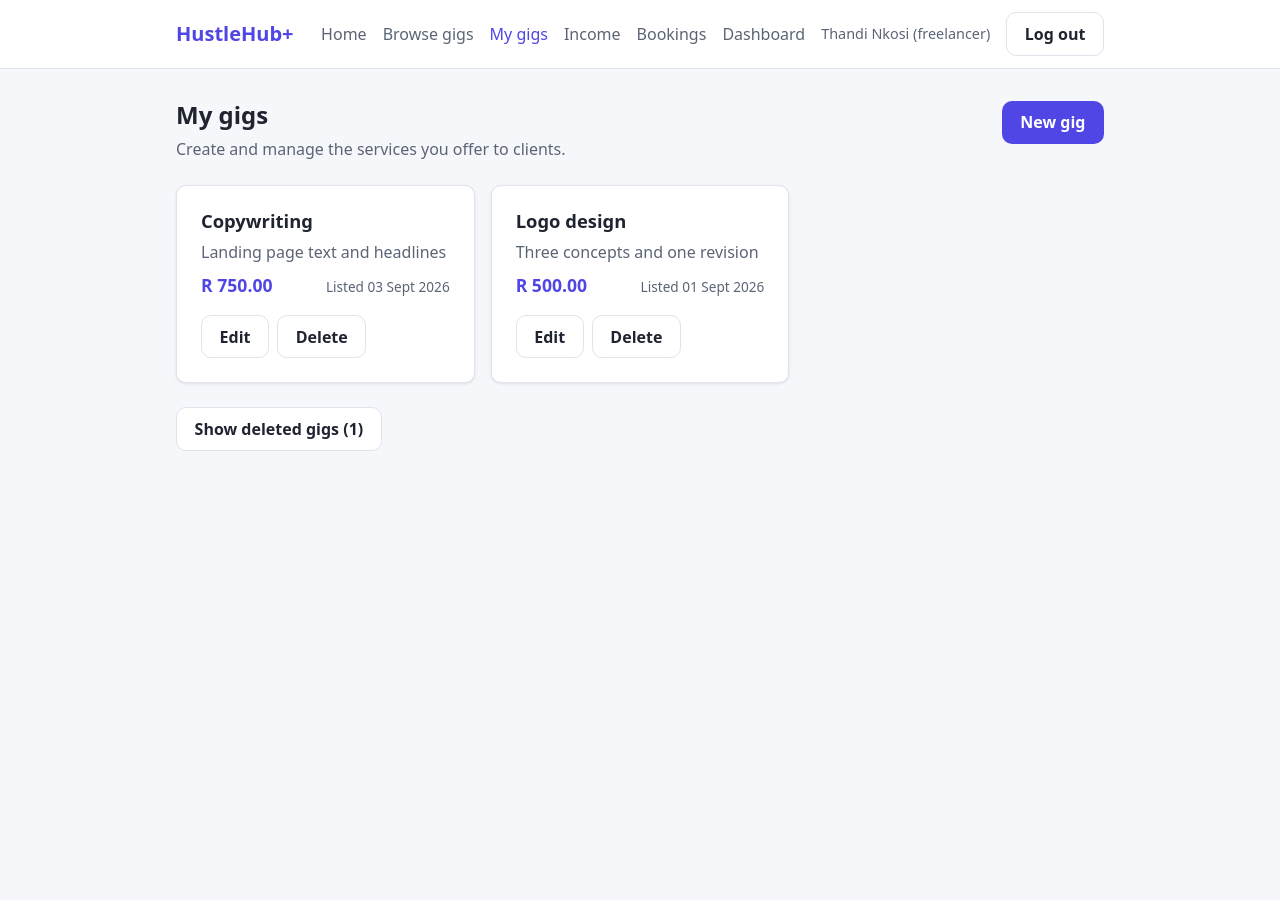
MyGigsPage › listing › offers to show deleted gigs, marked as removed with nothing to edit
Click the button "Show deleted gigs (1)". click: (279, 429)
box: [176,408,382,451]
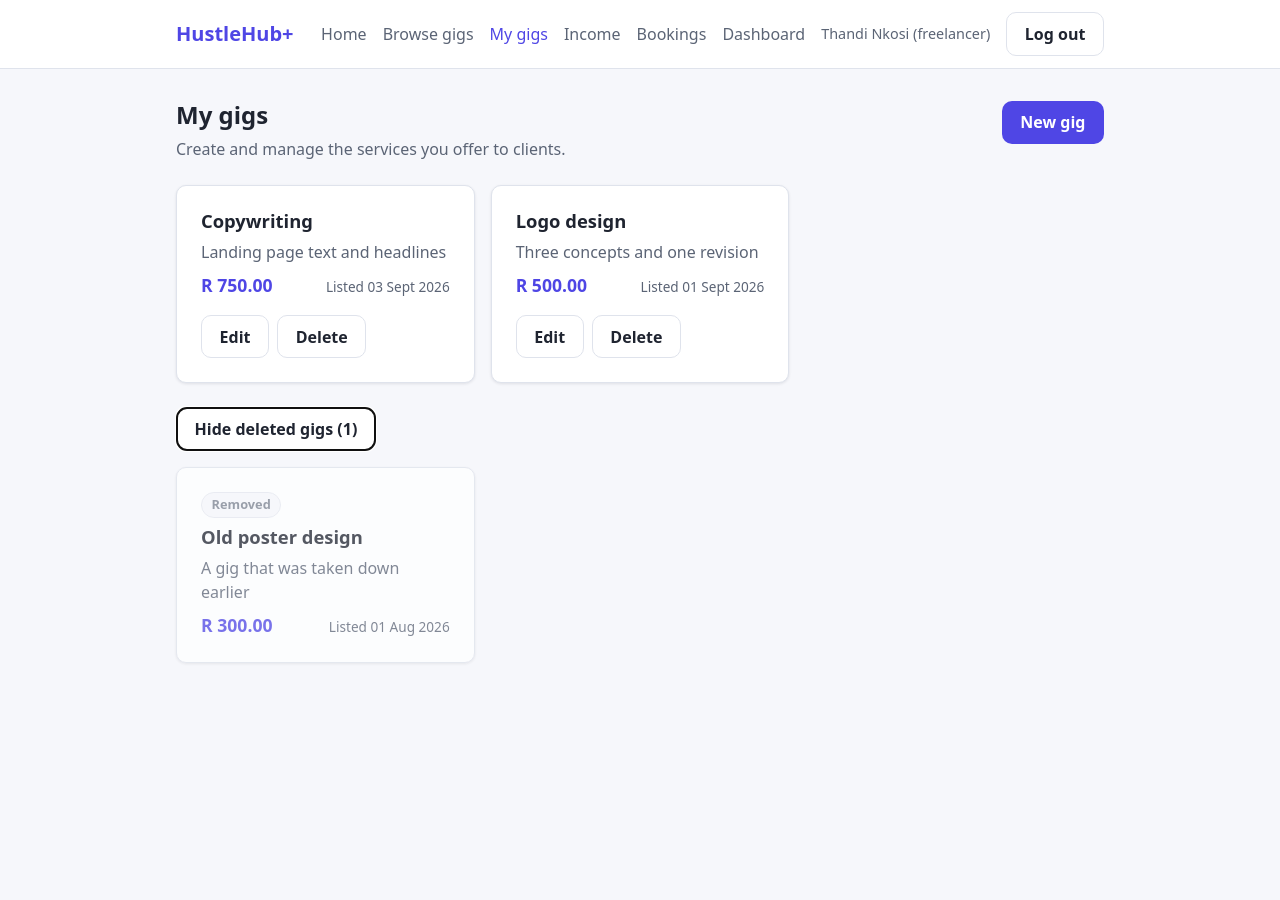
Check: the button is not shown
Check: the text "Removed" is shown, box [212,495,271,513]
Click the button "Hide deleted gigs (1)". click: (276, 429)
box: [176,408,376,451]
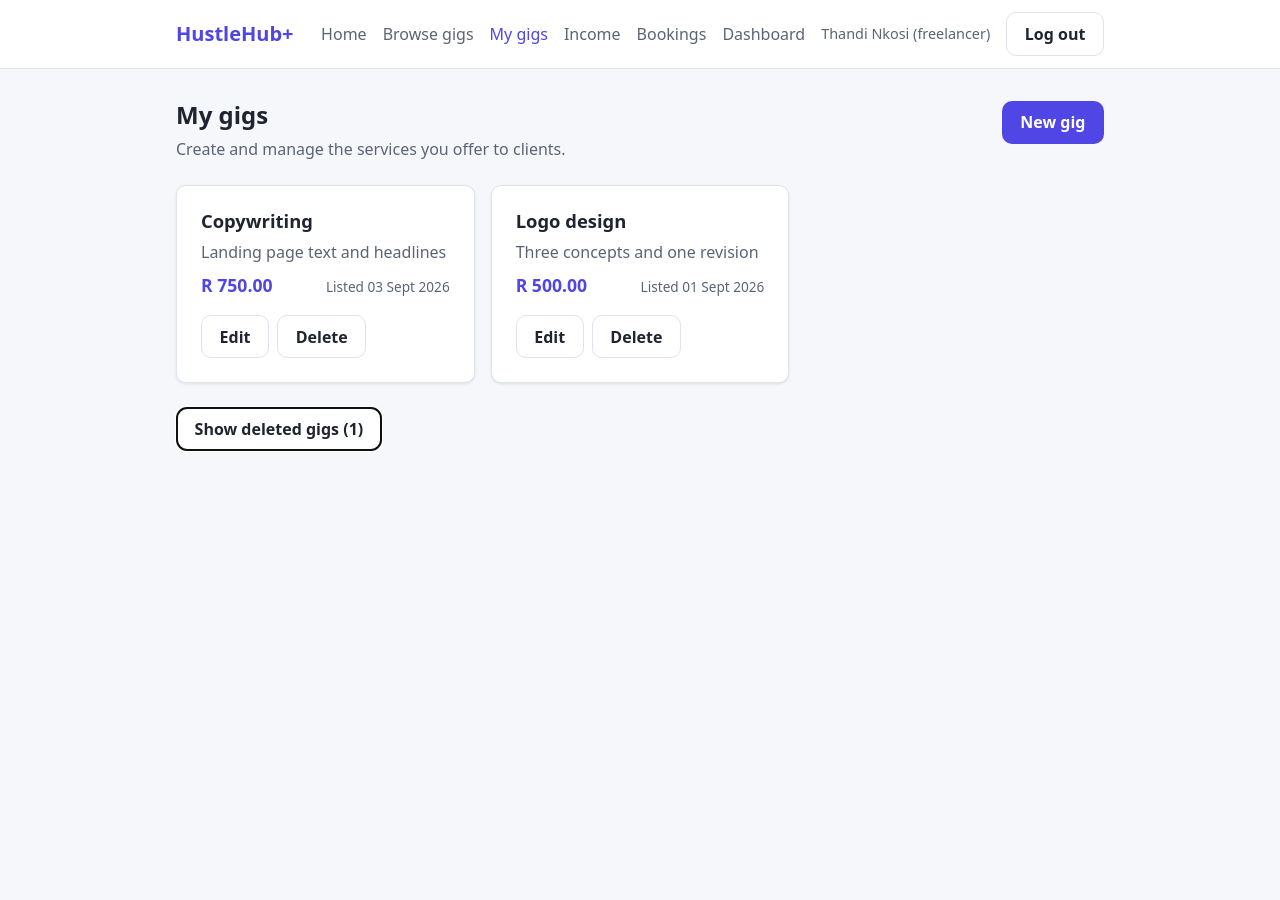
Check: the heading "Old poster design" is gone
